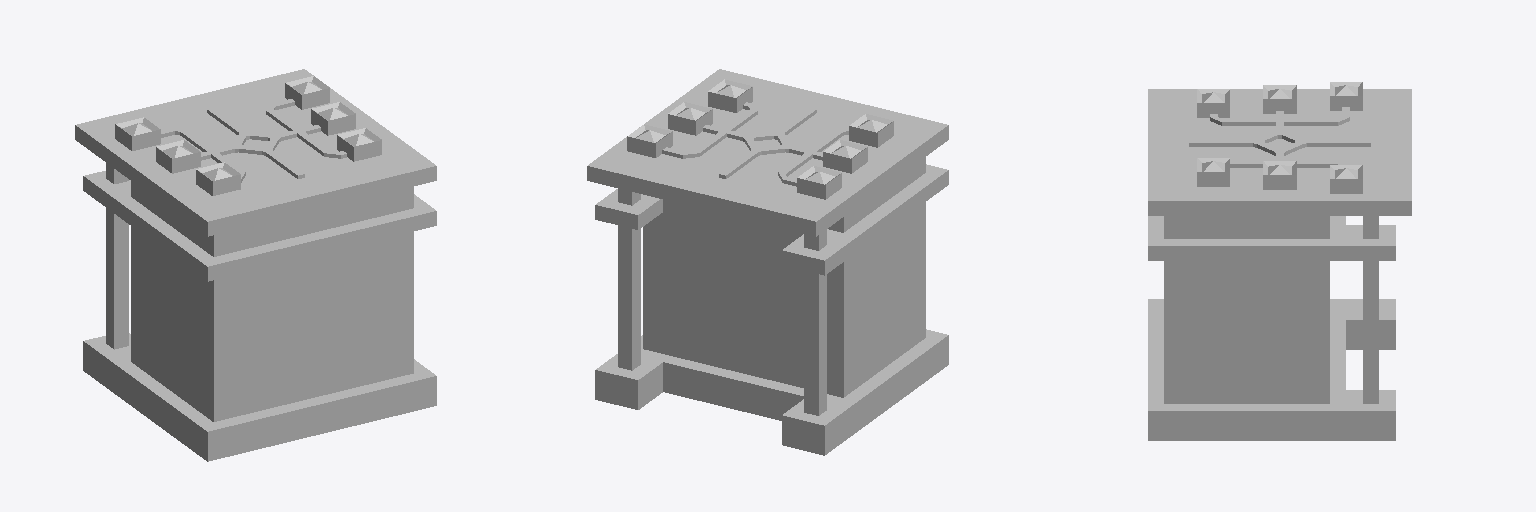
File: station_affinitytinkerer_inventory.obj
3 views of the same model, side by side, from view 1: azimuth 30°, elevation 25°; view 2: azimuth 150°, elevation 25°; view 3: azimuth 270°, elevation 25° (orthographic).
Visible parts, largest first — view 1: DESK_SINGLE_MAIN.006, AFFINITYTINKERER_MAIN_Cube.001; view 2: DESK_SINGLE_MAIN.006, AFFINITYTINKERER_MAIN_Cube.001; view 3: DESK_SINGLE_MAIN.006, AFFINITYTINKERER_MAIN_Cube.001.
Part boxes in pixels (x1,y1,x2,y2): DESK_SINGLE_MAIN.006: (75,69,436,461); AFFINITYTINKERER_MAIN_Cube.001: (115,76,381,195); DESK_SINGLE_MAIN.006: (587,69,948,455); AFFINITYTINKERER_MAIN_Cube.001: (627,79,893,199); DESK_SINGLE_MAIN.006: (1148,89,1411,440); AFFINITYTINKERER_MAIN_Cube.001: (1189,82,1370,193).
Bounding box in the file's own units: 1 × 1.08 × 1.